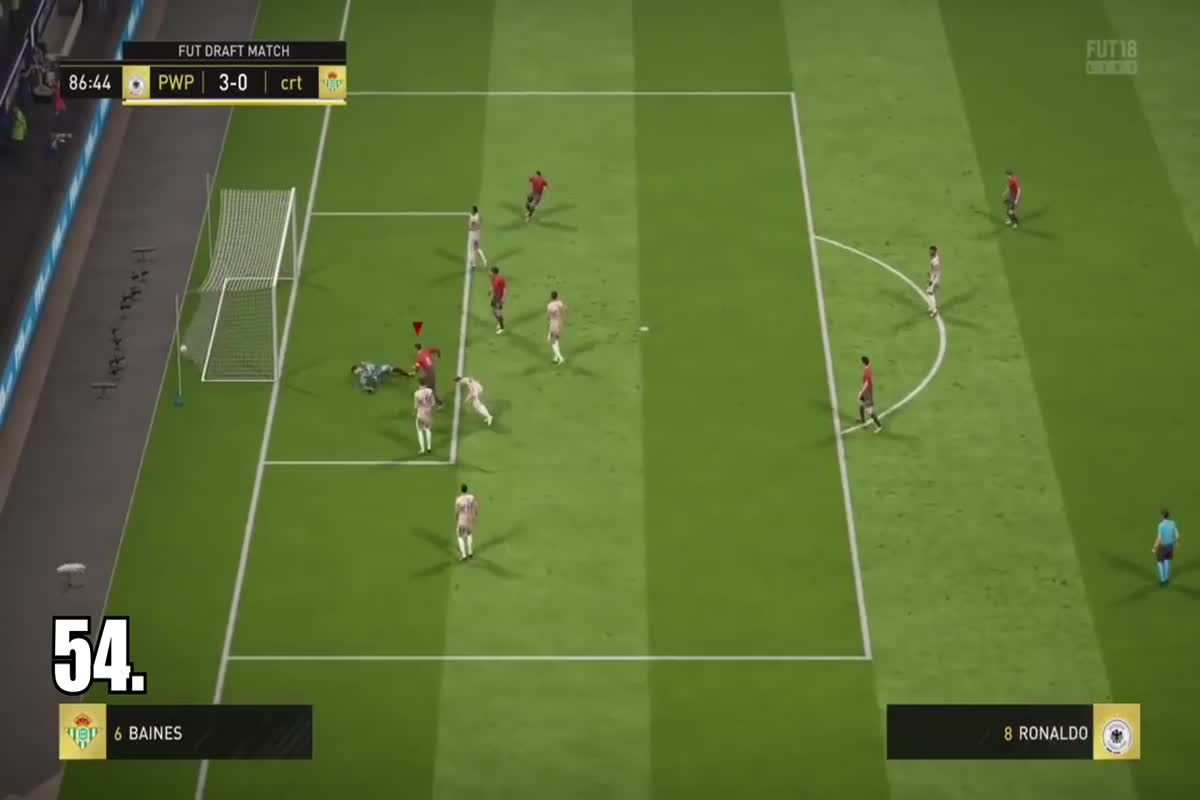ball: (175, 335, 199, 356)
